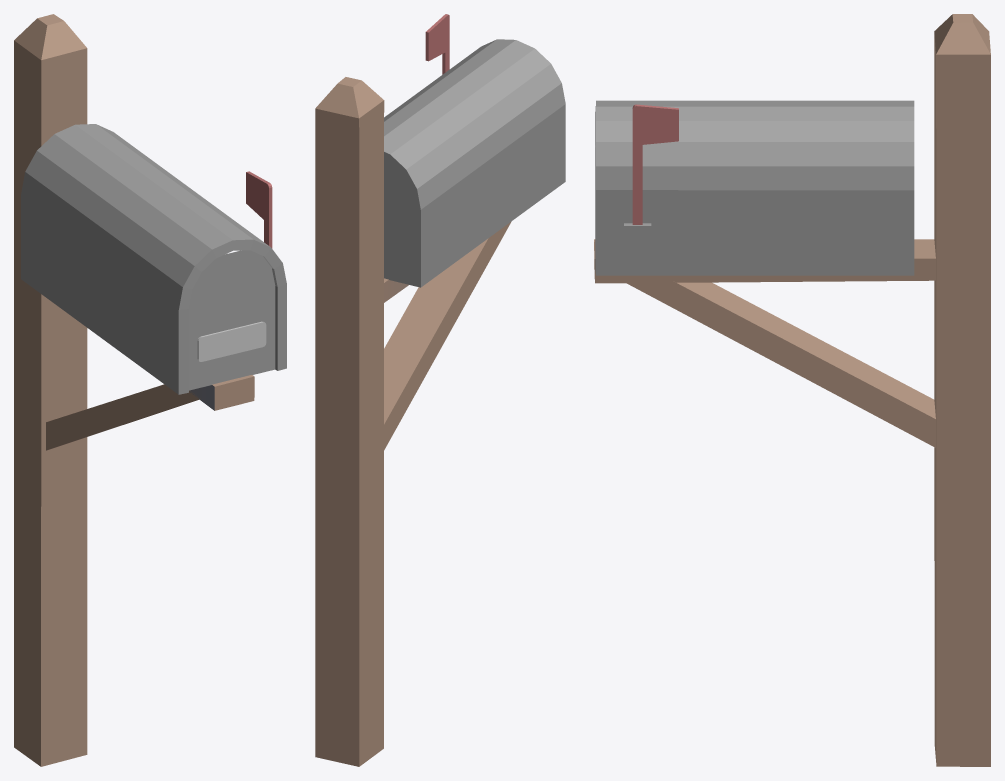
The model's file is mailbox.glb.
The picture shows the model from 3 angles, left to right: view 1: azimuth 30°, elevation 25°; view 2: azimuth 150°, elevation 25°; view 3: azimuth 270°, elevation 25°; orthographic projection. The views are drawn at different scales.
Visible parts, largest first — view 1: mailbox; view 2: mailbox; view 3: mailbox.
Boxes of the visible parts, x1=… form: mailbox: x1=14, y1=14, x2=286, y2=766; mailbox: x1=315, y1=14, x2=565, y2=766; mailbox: x1=594, y1=14, x2=990, y2=766.
Bounding box in the file's own units: 0.1622 × 1 × 0.4879.
